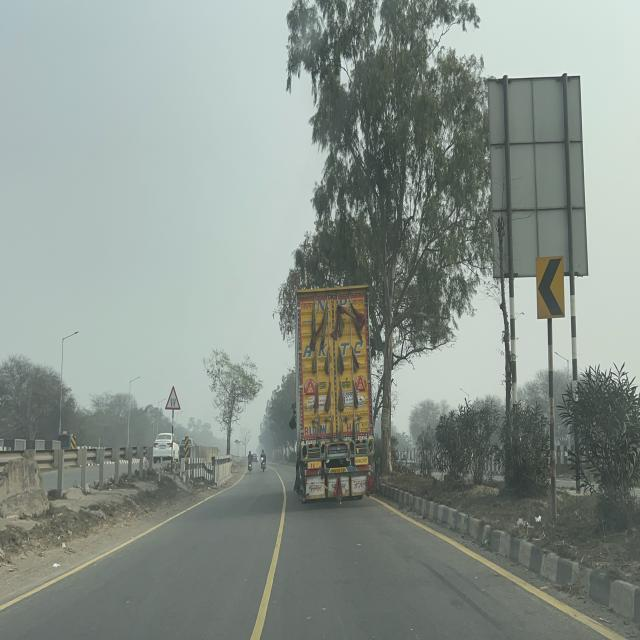ROAD_WIDENS_AHEAD: (165, 385, 181, 410)
TURN_LEFT: (536, 254, 566, 321)
